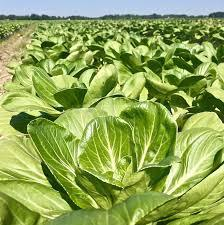Healthy-Pechay: (31, 8, 224, 225), (0, 56, 48, 225)
